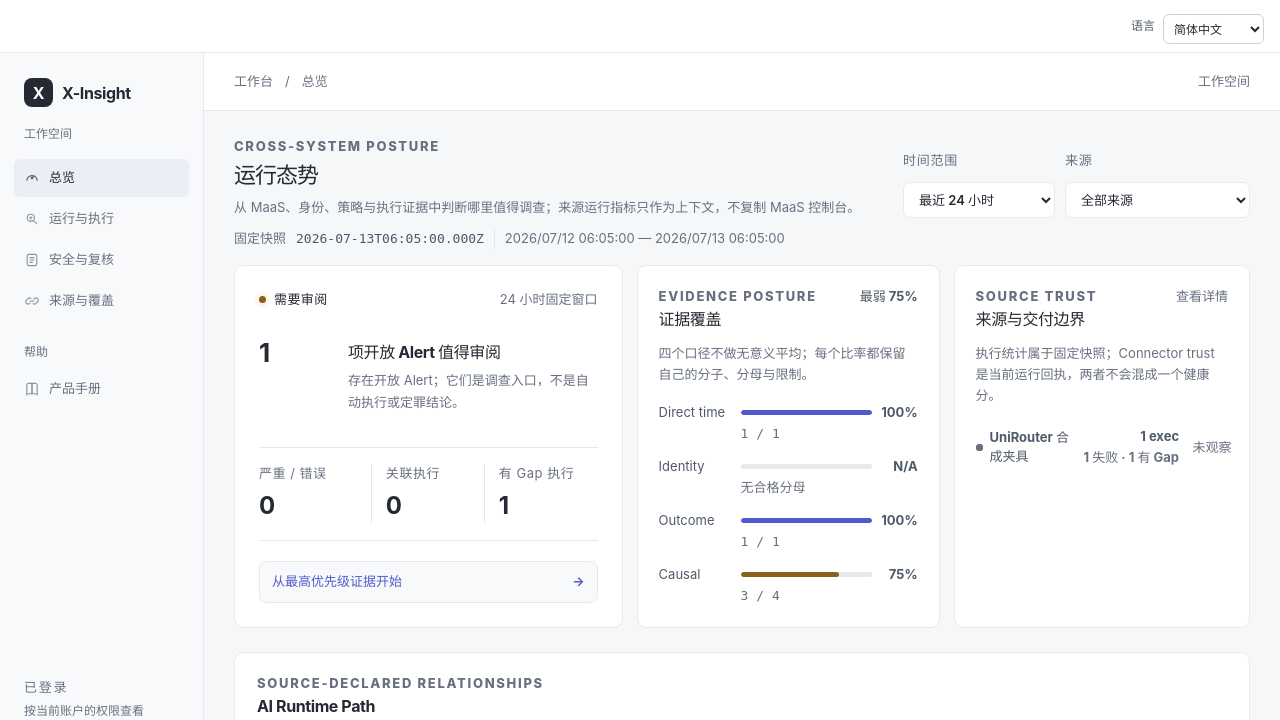
it: PRD2 investigation UI › does not attach an unrelated execution path to an unlinked Alert
The width and height of the screenshot is (1280, 720).
Step 1. Click the button "从最高优先级证据开始 →" → (337, 581), box [259,561,598,603]
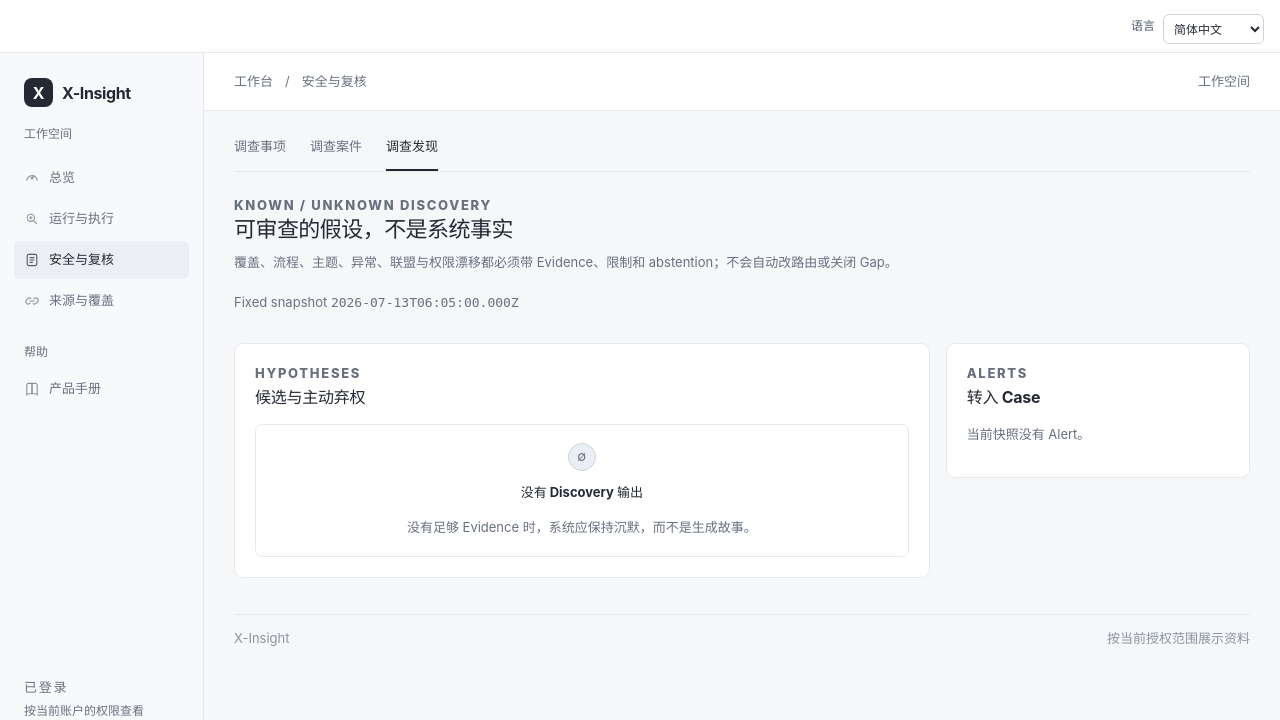
Check: the heading "可审查的假设，不是系统事实" is shown, box [234,216,513,242]
